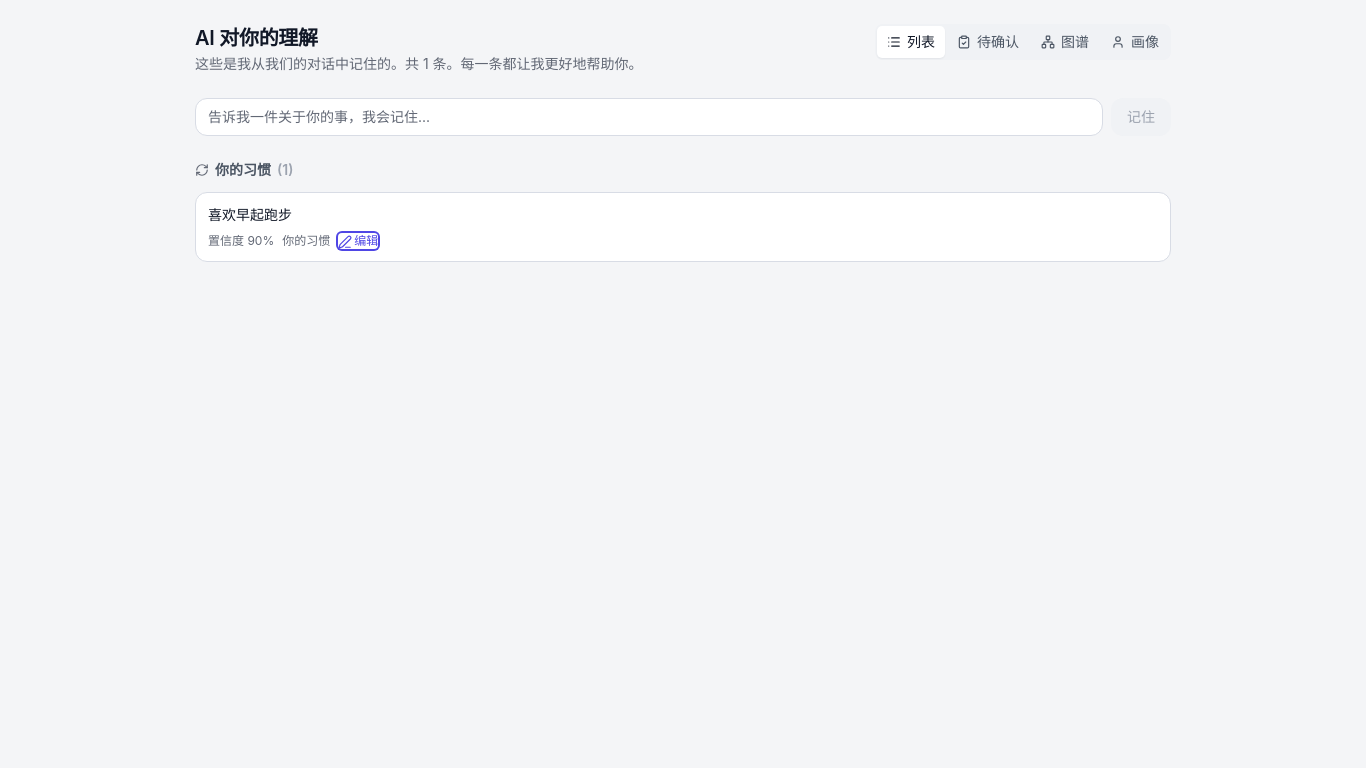
Test case: MemoriesPage › closes the edit dialog on Escape and returns focus
Click the button with aria-label "编辑：" at [358, 241], box [338, 233, 378, 249]
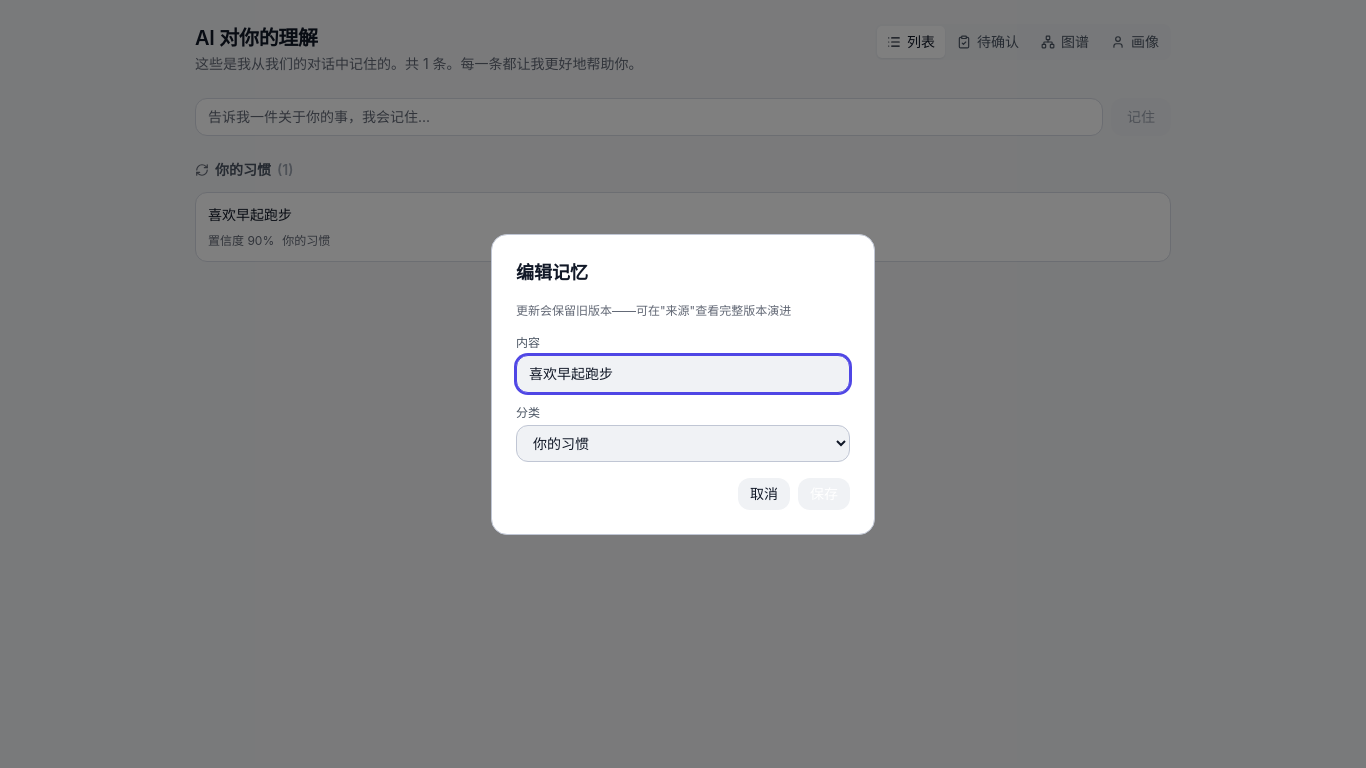
Press Escape
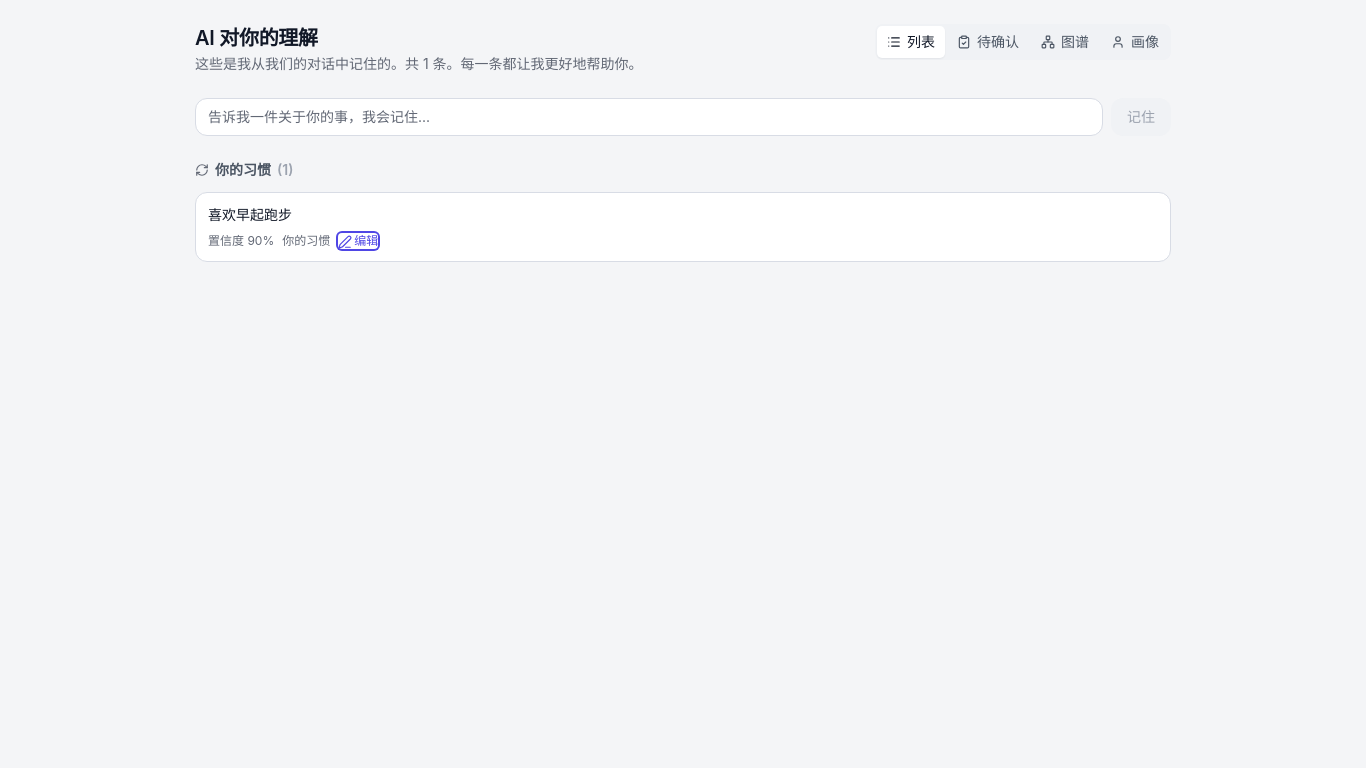
Check: the heading "编辑记忆" is gone
